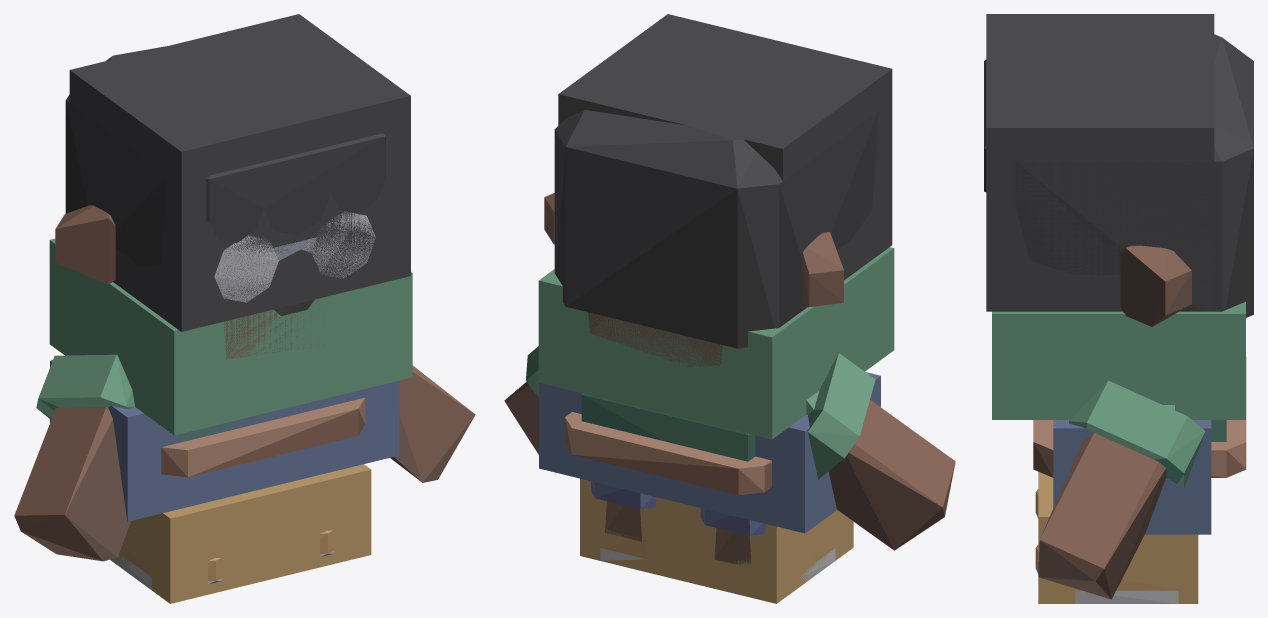
File: person.male-a.glb
3 renders of one model, left to right at view 1: azimuth 30°, elevation 25°; view 2: azimuth 150°, elevation 25°; view 3: azimuth 270°, elevation 25°, orthographic. The views are drawn at different scales.
Parts seen in each view (by area): view 1: far, near; view 2: near, far; view 3: far, near.
Boxes of the visible parts, box(x1,y1,x2,y2) form: far: box(49, 14, 412, 603); near: box(14, 29, 475, 590); near: box(504, 35, 955, 583); far: box(538, 14, 894, 603); far: box(986, 14, 1245, 603); near: box(984, 27, 1253, 603).
Bounding box in the file's own units: 1.68 × 1.7 × 0.861.
